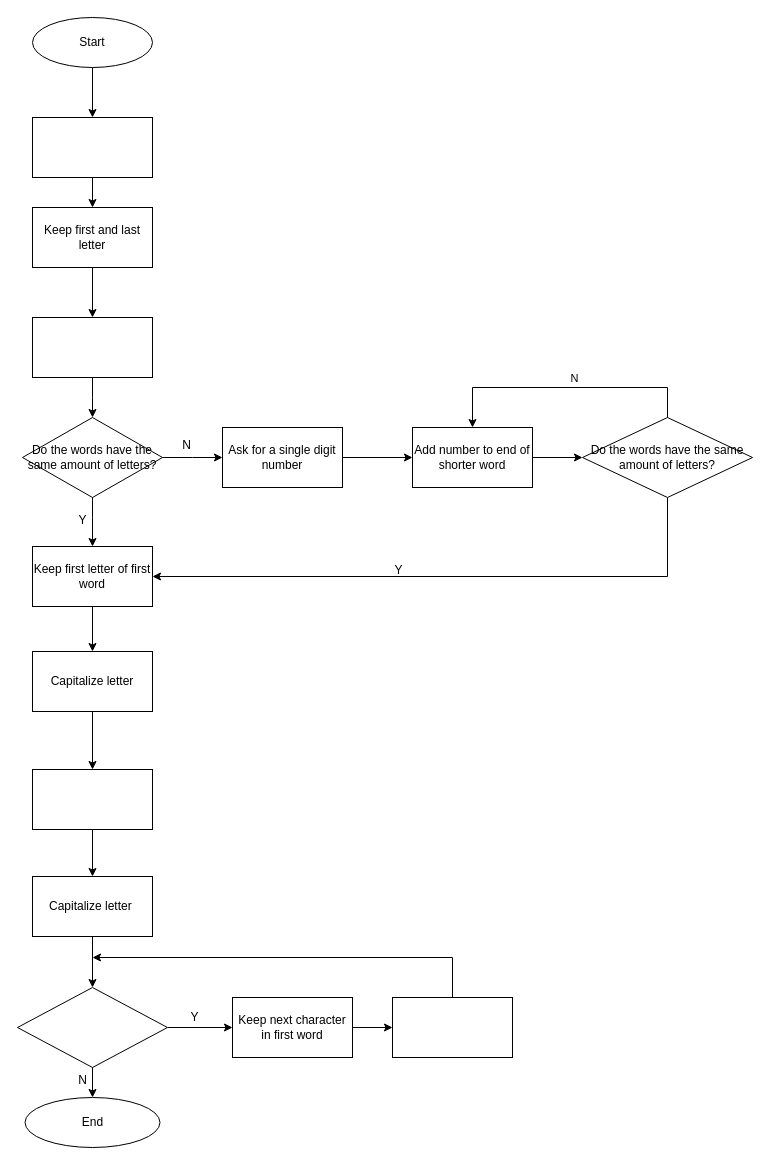
This 770x1165 diagram has some shape labels left out. Here are the shapes that lost their labels. From the top down, the box of each, then its label:
(32, 116, 152, 178): Enter the website the password is being created for
(32, 316, 152, 378): Enter two words that can be easily remembered
(32, 768, 152, 830): Keep first letter of second word
(16, 986, 168, 1068): Are there any more characters in the words?
(392, 996, 512, 1058): Keep next character in second word
